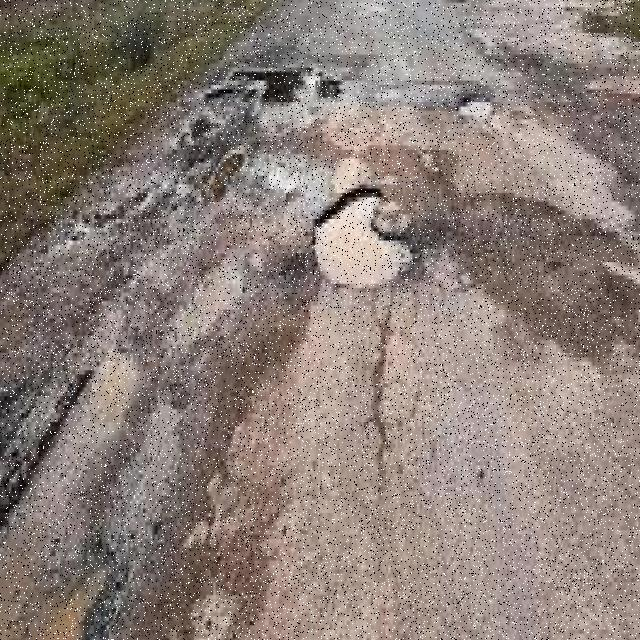pothole: (313, 189, 412, 288), (184, 145, 247, 206), (233, 72, 310, 111), (31, 591, 89, 640), (434, 85, 497, 124)
